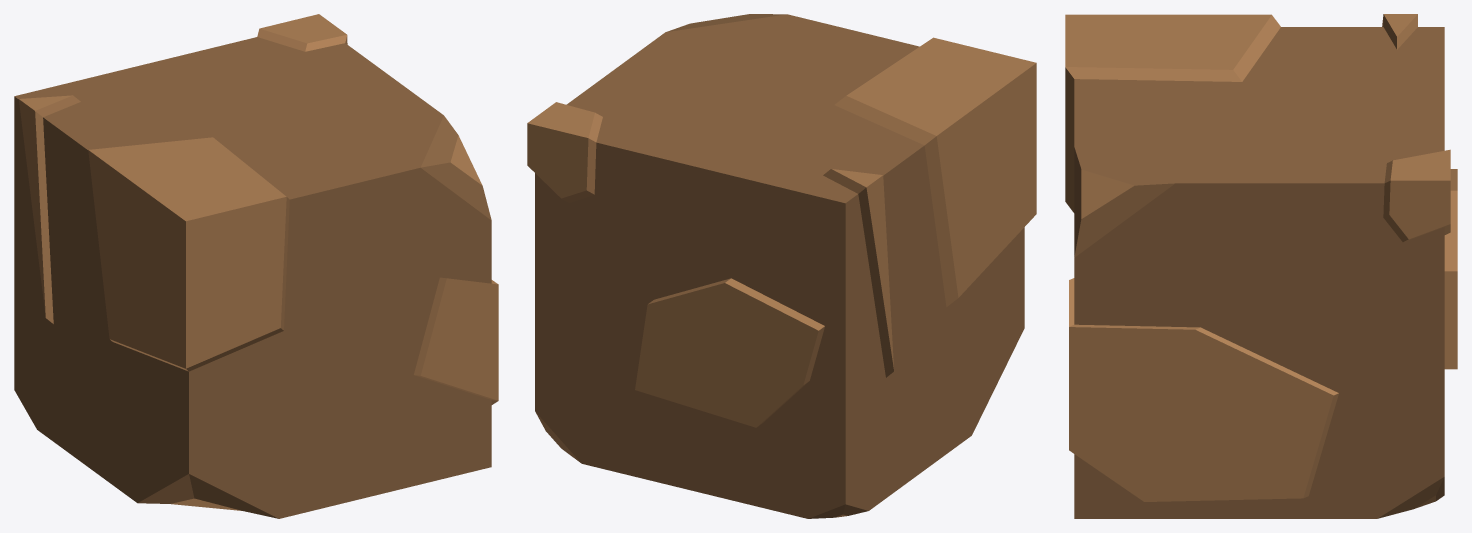
File: Ruin_5_Light_Brown.fbx
3 views of the same model, side by side, from view 1: azimuth 30°, elevation 25°; view 2: azimuth 150°, elevation 25°; view 3: azimuth 270°, elevation 25° (orthographic). The views are drawn at different scales.
Parts seen in each view (by area): view 1: Ruin_5_Light_Brown; view 2: Ruin_5_Light_Brown; view 3: Ruin_5_Light_Brown.
Part boxes in pixels (<box>): Ruin_5_Light_Brown: <box>14,14,498,518</box>; Ruin_5_Light_Brown: <box>527,14,1036,518</box>; Ruin_5_Light_Brown: <box>1065,14,1457,518</box>.
Size of the model in its own units: 52.13 by 51.32 by 53.02.
